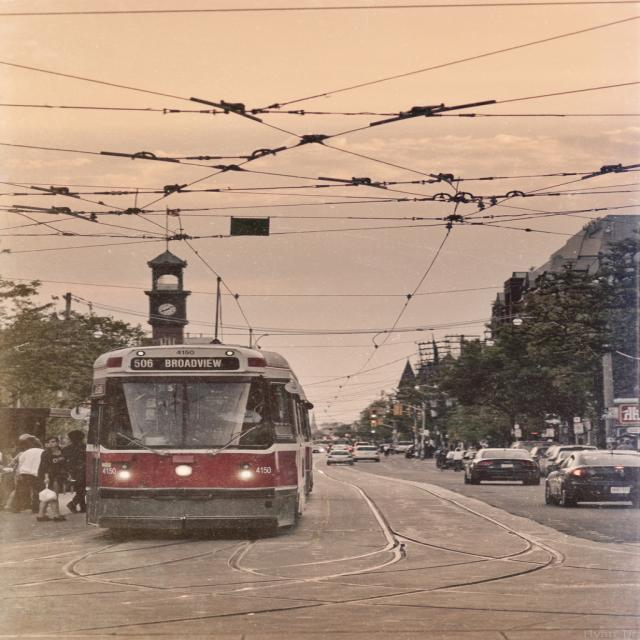car: (322, 448, 354, 466)
